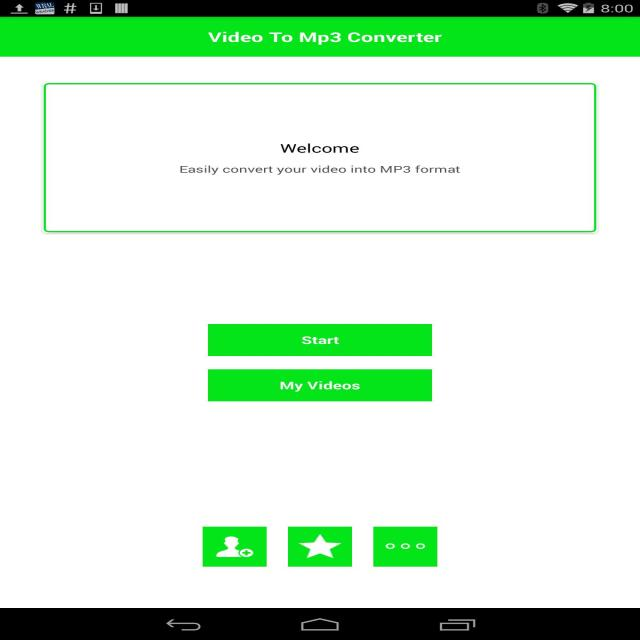button: (208, 369, 434, 402), (208, 324, 432, 356), (374, 527, 439, 567), (290, 525, 351, 567), (203, 526, 266, 566)
heading: (207, 30, 443, 48), (277, 140, 361, 155)
text: (172, 163, 464, 177)
